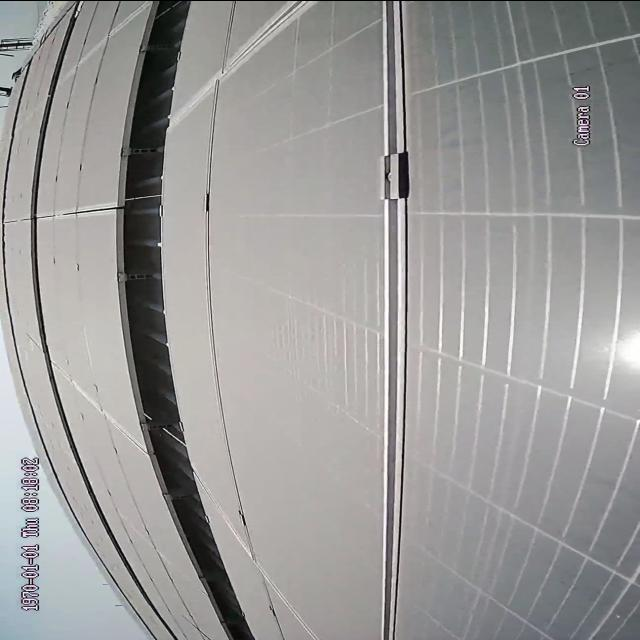interior panel: (378, 6, 411, 640), (180, 0, 309, 121)
outher panel: (117, 2, 262, 639)
